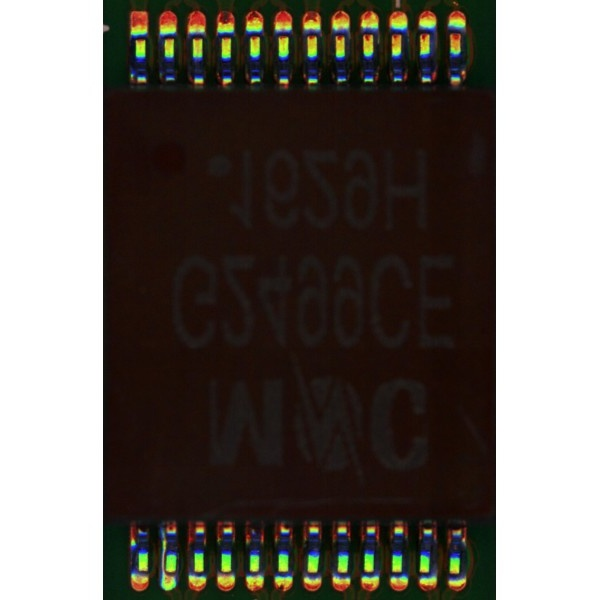Bad_podu: (164, 564, 174, 582)
Bad_qiaojiao: (161, 525, 166, 571)
